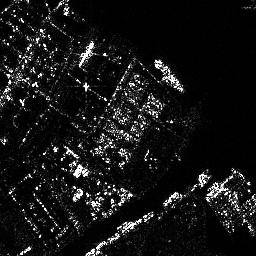ship: (153, 56, 182, 91), (162, 190, 180, 205)
